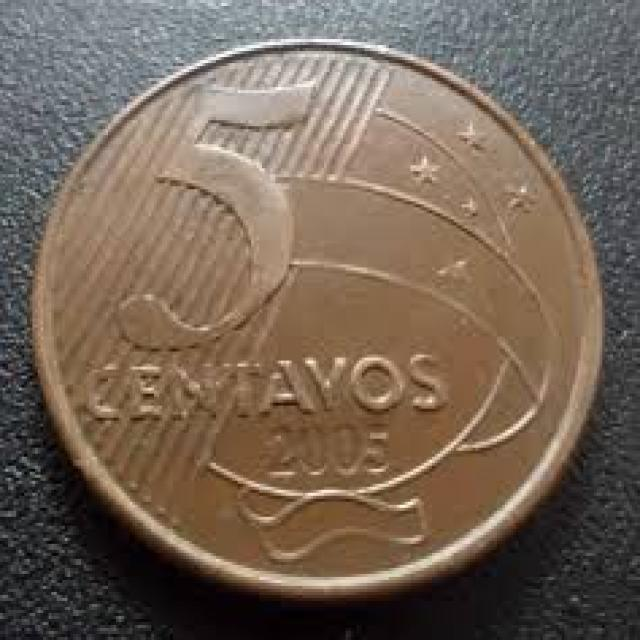5 cent: (40, 38, 613, 600)
